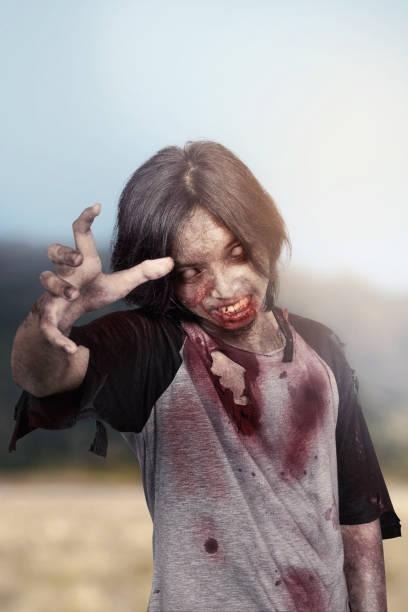Zombie: (122, 166, 284, 327)
